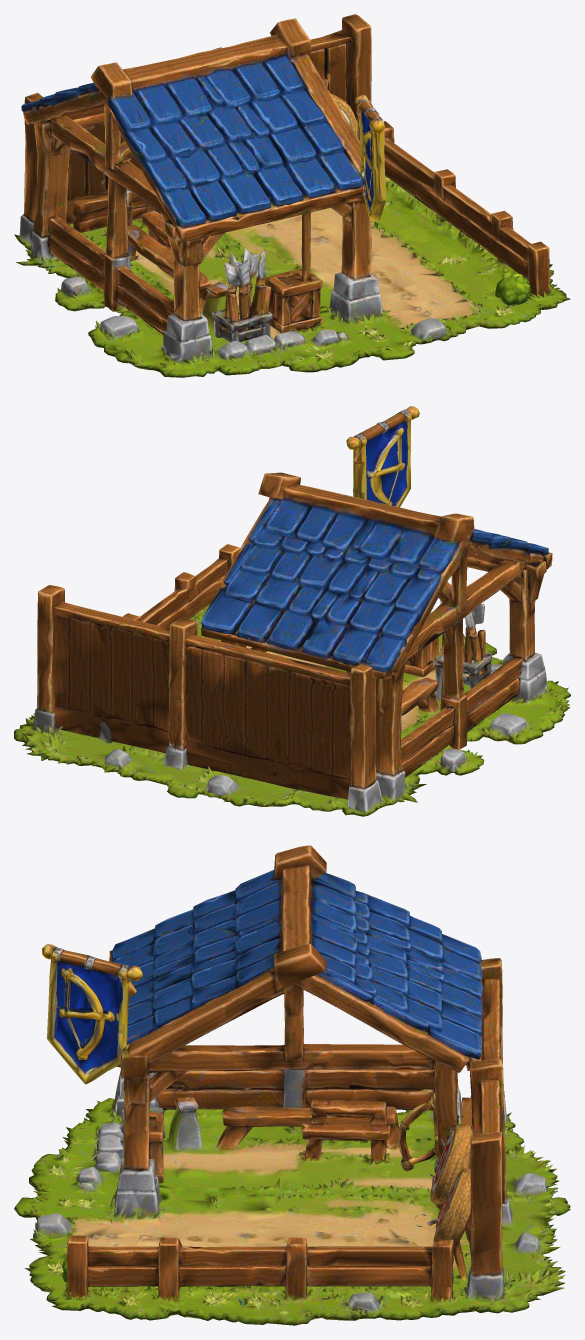
The model's file is arqueria_e4.glb.
The picture shows the model from 3 angles, top to bottom: view 1: azimuth 30°, elevation 25°; view 2: azimuth 150°, elevation 25°; view 3: azimuth 270°, elevation 25°; orthographic projection. The views are drawn at different scales.
Size of the model in its own units: 1.9 by 1.01 by 1.89.
1 material, 1 textured.
